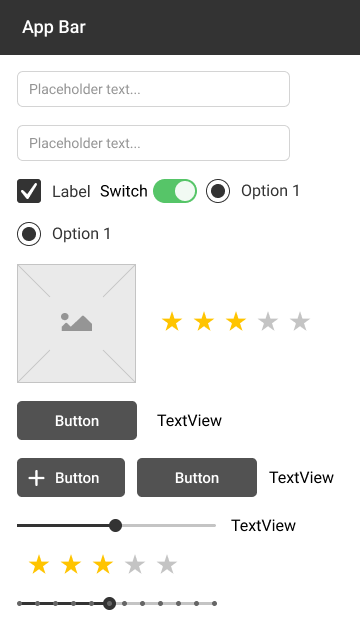button: (135, 454, 260, 499), (15, 400, 139, 442)
buttonImage: (15, 455, 127, 501)
checkBox: (14, 175, 93, 206)
editText: (16, 121, 293, 165), (16, 68, 291, 110)
imageView: (14, 262, 140, 385)
radioButton: (205, 176, 307, 207), (14, 218, 114, 248)
ratingBar: (156, 306, 316, 338), (22, 551, 180, 579)
slider: (13, 596, 226, 613)
slider1: (12, 518, 220, 532)
switch: (95, 177, 199, 205)
textView: (266, 468, 335, 489), (230, 516, 299, 535), (155, 412, 224, 429)
toolbar: (1, 1, 360, 56)
